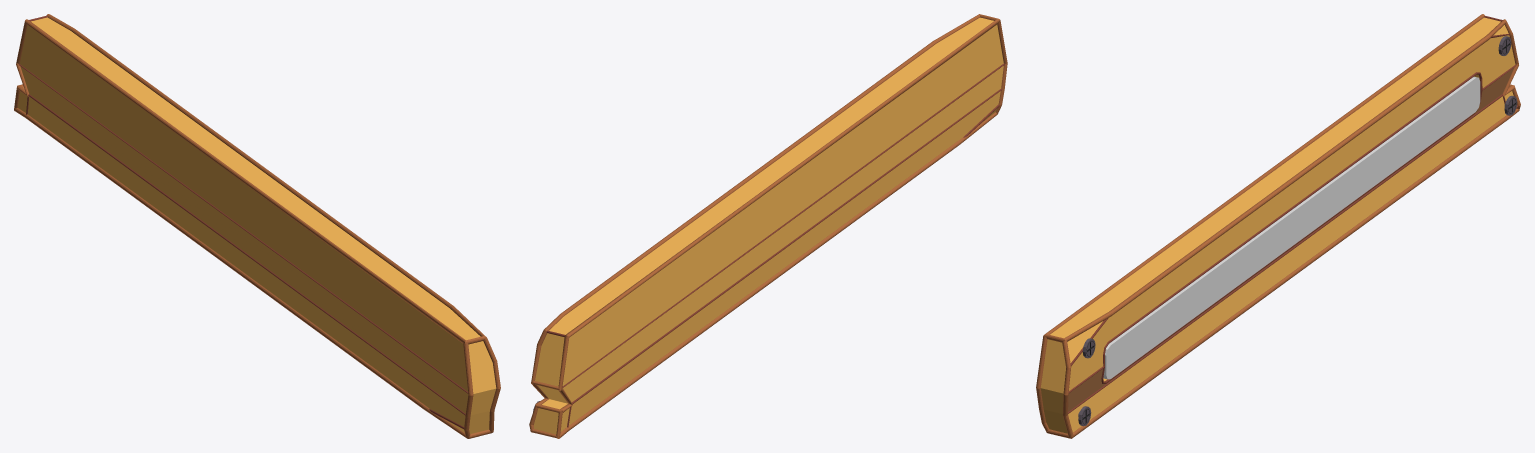
The model's file is BAR MASAK.fbx.
3 renders of one model, left to right at view 1: azimuth 30°, elevation 25°; view 2: azimuth 150°, elevation 25°; view 3: azimuth 330°, elevation 25°, orthographic.
Visible parts, largest first — view 1: Cube, Cube.004, Cube.003; view 2: Cube, Cube.004, Cube.003; view 3: Cube, Cube.001, Cube.004, Cube.003.
Boxes of the visible parts, <box> form: Cube: <box>17,17,496,433</box>; Cube.004: <box>14,14,500,438</box>; Cube.003: <box>18,15,468,429</box>; Cube: <box>534,17,1003,434</box>; Cube.004: <box>529,14,1007,438</box>; Cube.003: <box>546,63,1004,427</box>; Cube: <box>1040,17,1515,433</box>; Cube.001: <box>1103,76,1480,379</box>; Cube.004: <box>1036,14,1520,438</box>; Cube.003: <box>1068,15,1518,413</box>.
Bounding box in the file's own units: 38.99 × 111 × 932.
